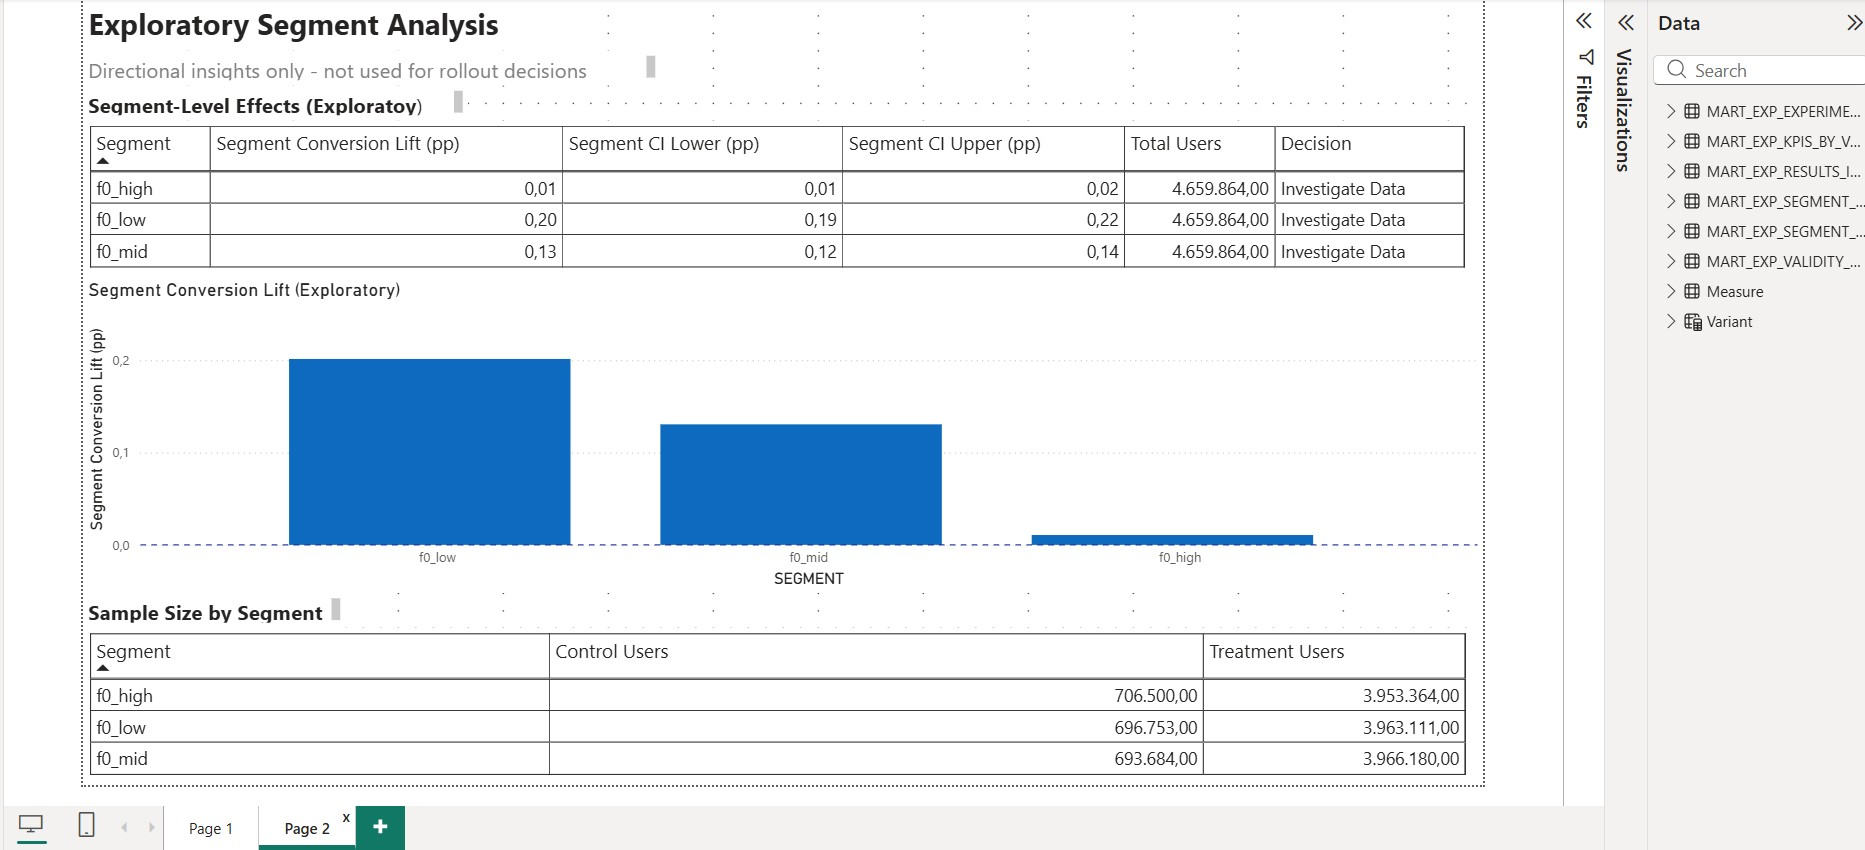

The page's visual inventory and layout, read from the dashboard file:
{"tool":"powerbi","page":{"name":"Page 2","canvas":[1280,720],"ordinal":1},"visuals":[{"type":"textbox","box":[0,0,400,48],"z":0},{"type":"tableEx","fields":{"Values":["MART_EXP_SEGMENT_RESULTS_FINAL.SEGMENT","Measure.Segment Conversion Lift (pp)","Measure.Segment CI Lower (pp)","Measure.Segment CI Upper (pp)","Measure.Total Users","Measure.Decision"]},"box":[0,112,1280,144],"z":1000},{"type":"clusteredColumnChart","title":"Segment Conversion Lift (Exploratory)","fields":{"Category":["MART_EXP_SEGMENT_RESULTS_FINAL.SEGMENT"],"Y":["Measure.Segment Conversion Lift (pp)"]},"box":[0,256,1280,288],"z":3000},{"type":"tableEx","fields":{"Values":["MART_EXP_SEGMENT_RESULTS_FINAL.SEGMENT","MART_EXP_SEGMENT_RESULTS_FINAL.CONTROL_USERS","MART_EXP_SEGMENT_RESULTS_FINAL.TREATMENT_USERS"]},"box":[0,576,1280,144],"z":4000},{"type":"textbox","box":[0,48,528,32],"z":5000},{"type":"textbox","box":[0,80,352,32],"z":6000},{"type":"textbox","box":[0,544,240,32],"z":7000}]}

Visuals, with their boxes on the page's 1280x720 design canvas (x1, y1, x2, y2). These are canvas units, not pixel positions in the 1865x850 screenshot, which may show the page scaled, cropped or inside an application window:
textbox: [0,0,400,48]
tableEx - MART_EXP_SEGMENT_RESULTS_FINAL.SEGMENT x Measure.Segment Conversion Lift (pp): [0,112,1280,256]
"Segment Conversion Lift (Exploratory)" clusteredColumnChart: [0,256,1280,544]
tableEx - MART_EXP_SEGMENT_RESULTS_FINAL.SEGMENT x MART_EXP_SEGMENT_RESULTS_FINAL.CONTROL_USERS: [0,576,1280,720]
textbox: [0,48,528,80]
textbox: [0,80,352,112]
textbox: [0,544,240,576]
